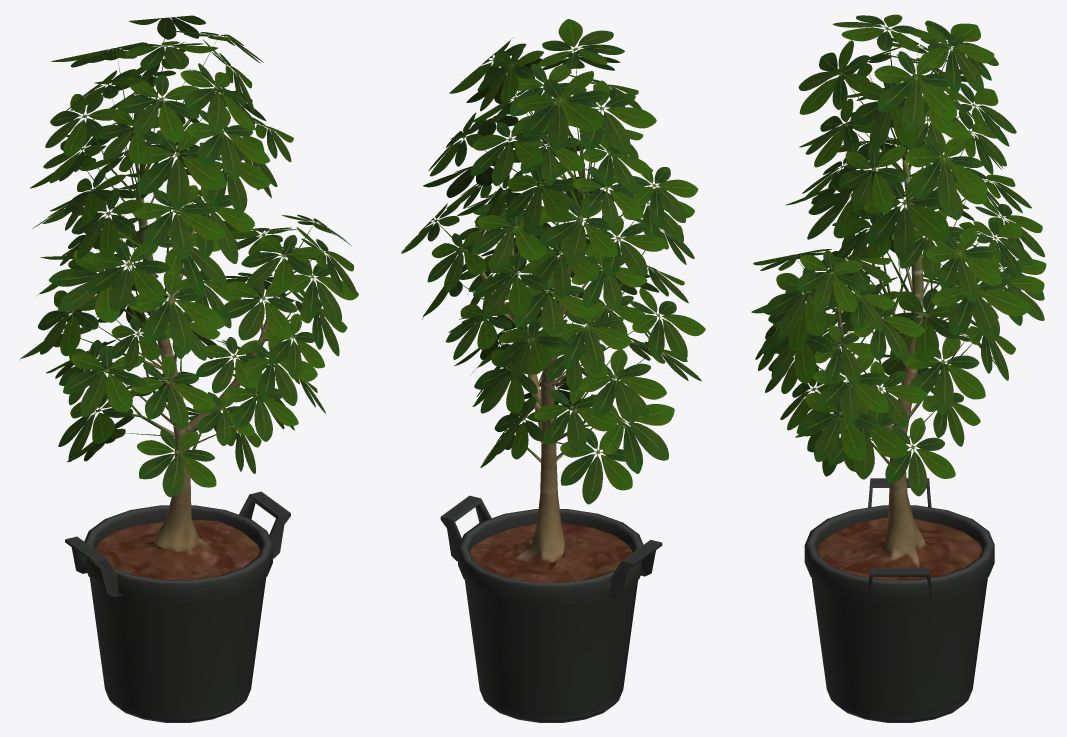
3 renders of one model, left to right at view 1: azimuth 30°, elevation 25°; view 2: azimuth 150°, elevation 25°; view 3: azimuth 270°, elevation 25°, orthographic.
Size of the model in its own units: 10.07 by 22.35 by 9.43.
Materials: 1 (1 with a texture image).
